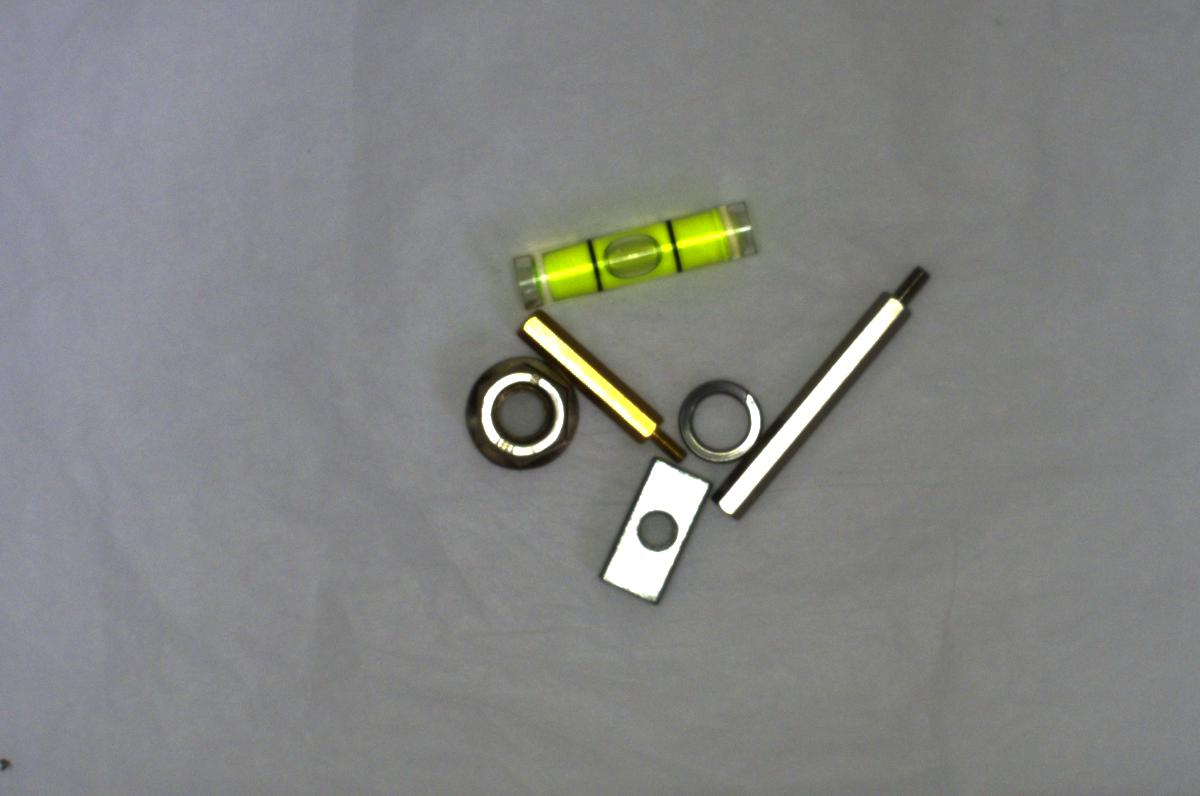Flange nut: (445, 355, 584, 470)
Hexagon pillar: (514, 310, 688, 460)
Hexagonal steel column: (721, 253, 946, 518)
Horizontal bubble: (514, 194, 762, 310)
Rectangular nut: (594, 456, 715, 607)
Spring washer: (675, 375, 764, 463)
